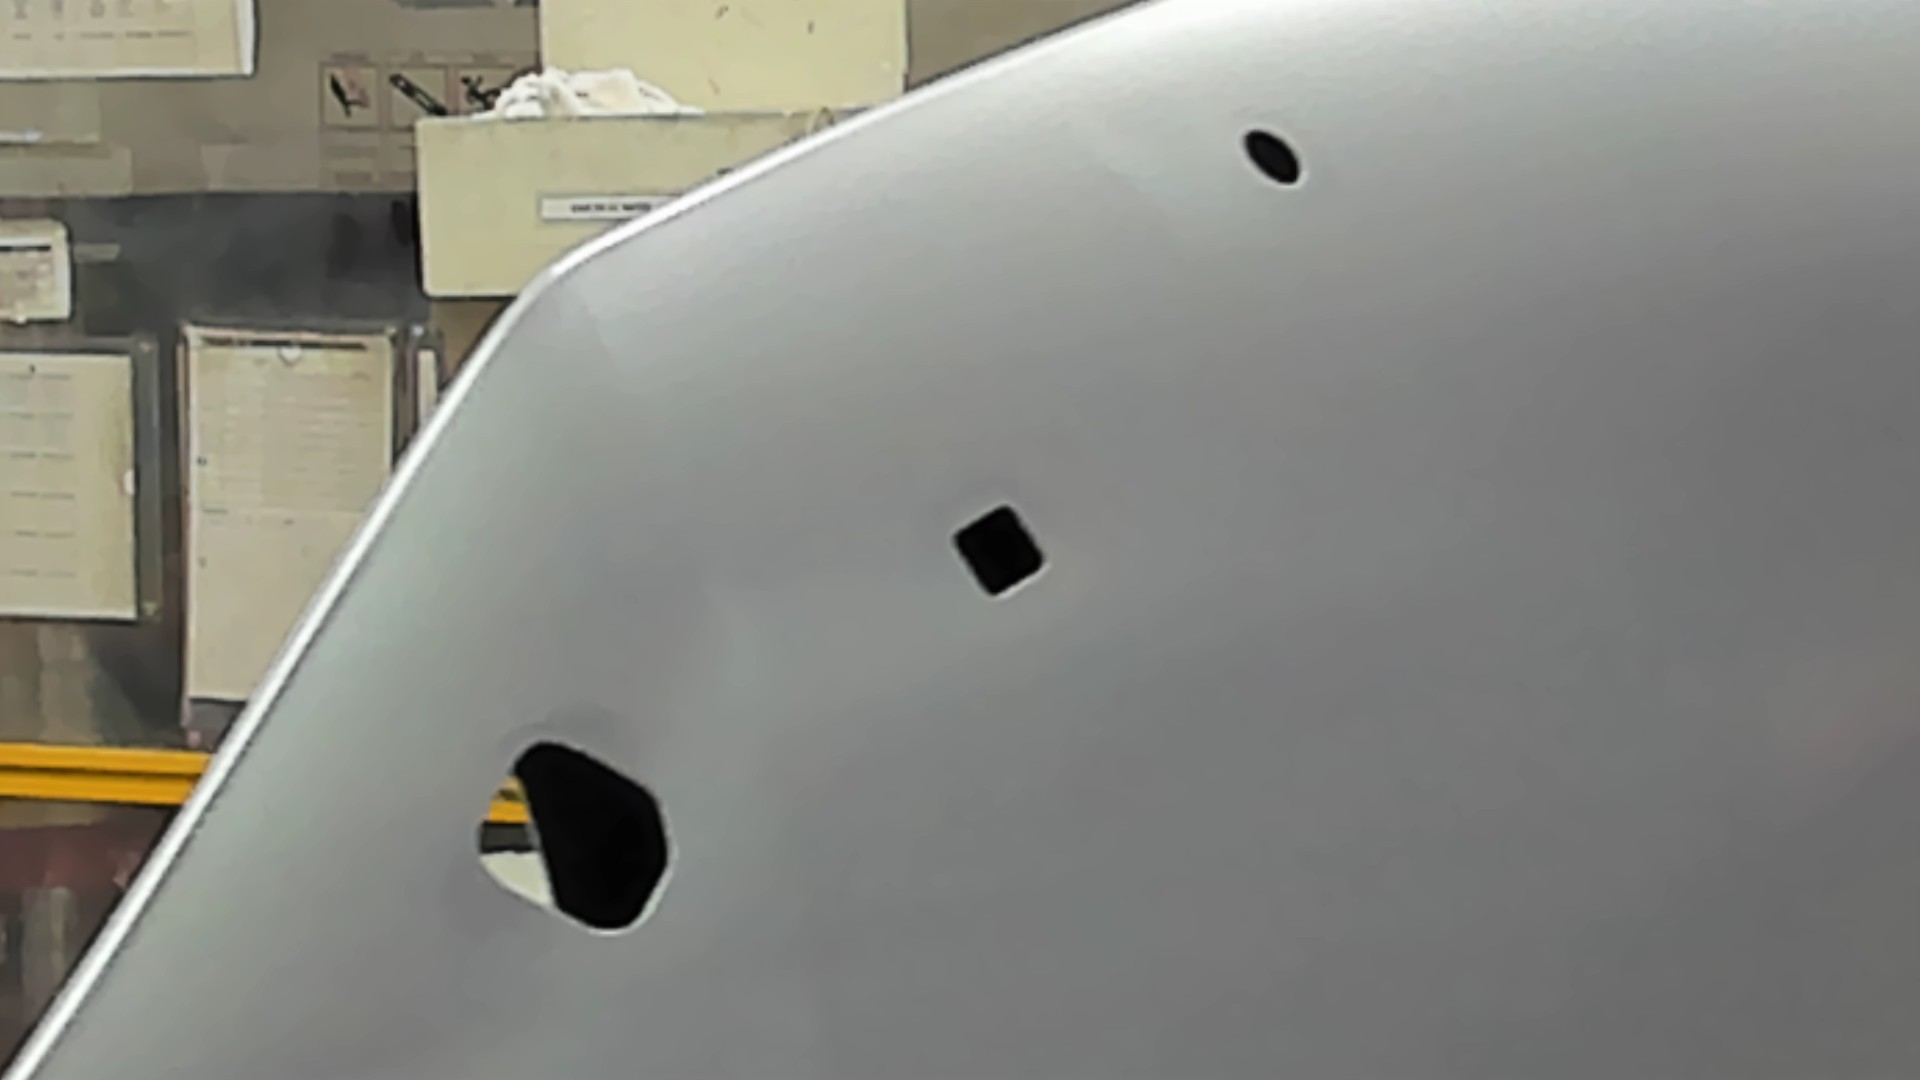chico: (1240, 124, 1307, 187)
grande: (473, 736, 680, 942)
mediano: (949, 502, 1054, 604)
